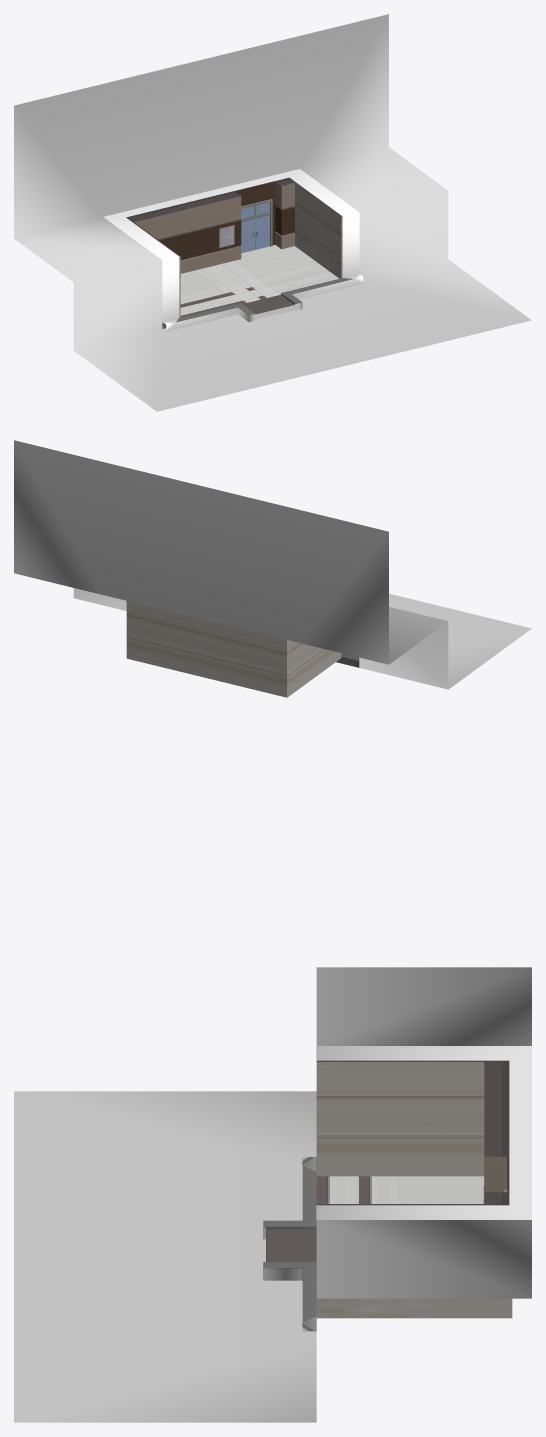
Rendered from a_com_building_b01.gltf.
3 views of the same model, one above another, from view 1: azimuth 30°, elevation 25°; view 2: azimuth 150°, elevation 25°; view 3: azimuth 270°, elevation 25° (orthographic). The views are drawn at different scales.
Visible parts, largest first — view 1: a_com_building_b01_outsideblank01_mesh_shape:a_com_building_, um_a_com_building_b01_model_a_com_building_b01_modelShape:a_ (×7), nomerge_outside_edge_shape:mat_texture_edge02, a_com_building_b01_ceiling01_mesh_shape:a_com_building_b01_c; view 2: a_com_building_b01_outsideblank01_mesh_shape:a_com_building_, um_a_com_building_b01_model_a_com_building_b01_modelShape:a_; view 3: a_com_building_b01_outsideblank01_mesh_shape:a_com_building_, um_a_com_building_b01_model_a_com_building_b01_modelShape:a_ (×5), nomerge_outside_edge_shape:mat_texture_edge02, a_com_building_b01_ceiling01_mesh_shape:a_com_building_b01_c.
Boxes of the visible parts, <box> form: a_com_building_b01_outsideblank01_mesh_shape:a_com_building_: <box>14,14,531,411</box>; um_a_com_building_b01_model_a_com_building_b01_modelShape:a_ (×7): <box>134,182,352,328</box>; nomerge_outside_edge_shape:mat_texture_edge02: <box>103,169,363,331</box>; a_com_building_b01_ceiling01_mesh_shape:a_com_building_b01_c: <box>126,177,342,256</box>; a_com_building_b01_outsideblank01_mesh_shape:a_com_building_: <box>14,440,531,689</box>; um_a_com_building_b01_model_a_com_building_b01_modelShape:a_: <box>126,601,359,697</box>; a_com_building_b01_outsideblank01_mesh_shape:a_com_building_: <box>14,967,531,1422</box>; um_a_com_building_b01_model_a_com_building_b01_modelShape:a_ (×5): <box>263,1062,512,1331</box>; nomerge_outside_edge_shape:mat_texture_edge02: <box>263,1046,531,1330</box>; a_com_building_b01_ceiling01_mesh_shape:a_com_building_b01_c: <box>316,1060,509,1205</box>.
Size of the model in its own units: 28 by 14.38 by 18.5.
12 materials, 10 textured.
